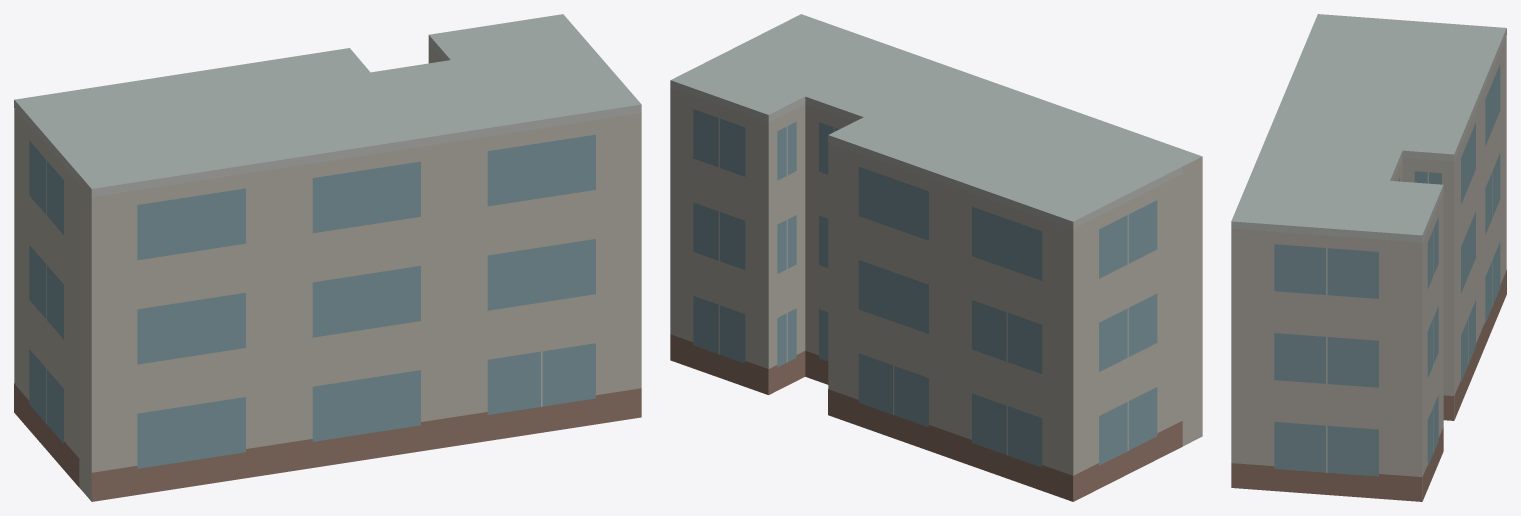
The model's file is survey-upis-32801112.glb.
3 views of the same model, side by side, from view 1: azimuth 30°, elevation 25°; view 2: azimuth 150°, elevation 25°; view 3: azimuth 270°, elevation 25° (orthographic). The views are drawn at different scales.
Parts seen in each view (by area): view 1: survey-upis-32801112.tmp; view 2: survey-upis-32801112.tmp; view 3: survey-upis-32801112.tmp.
Boxes of the visible parts, x1,y1,x2,y2 form: survey-upis-32801112.tmp: [14, 14, 641, 501]; survey-upis-32801112.tmp: [670, 14, 1202, 501]; survey-upis-32801112.tmp: [1231, 14, 1506, 501].
Size of the model in its own units: 16.32 by 9.15 by 8.59.
